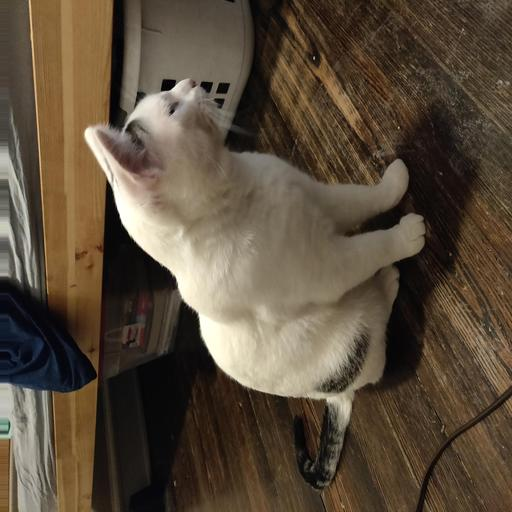cat: (81, 55, 435, 409)
